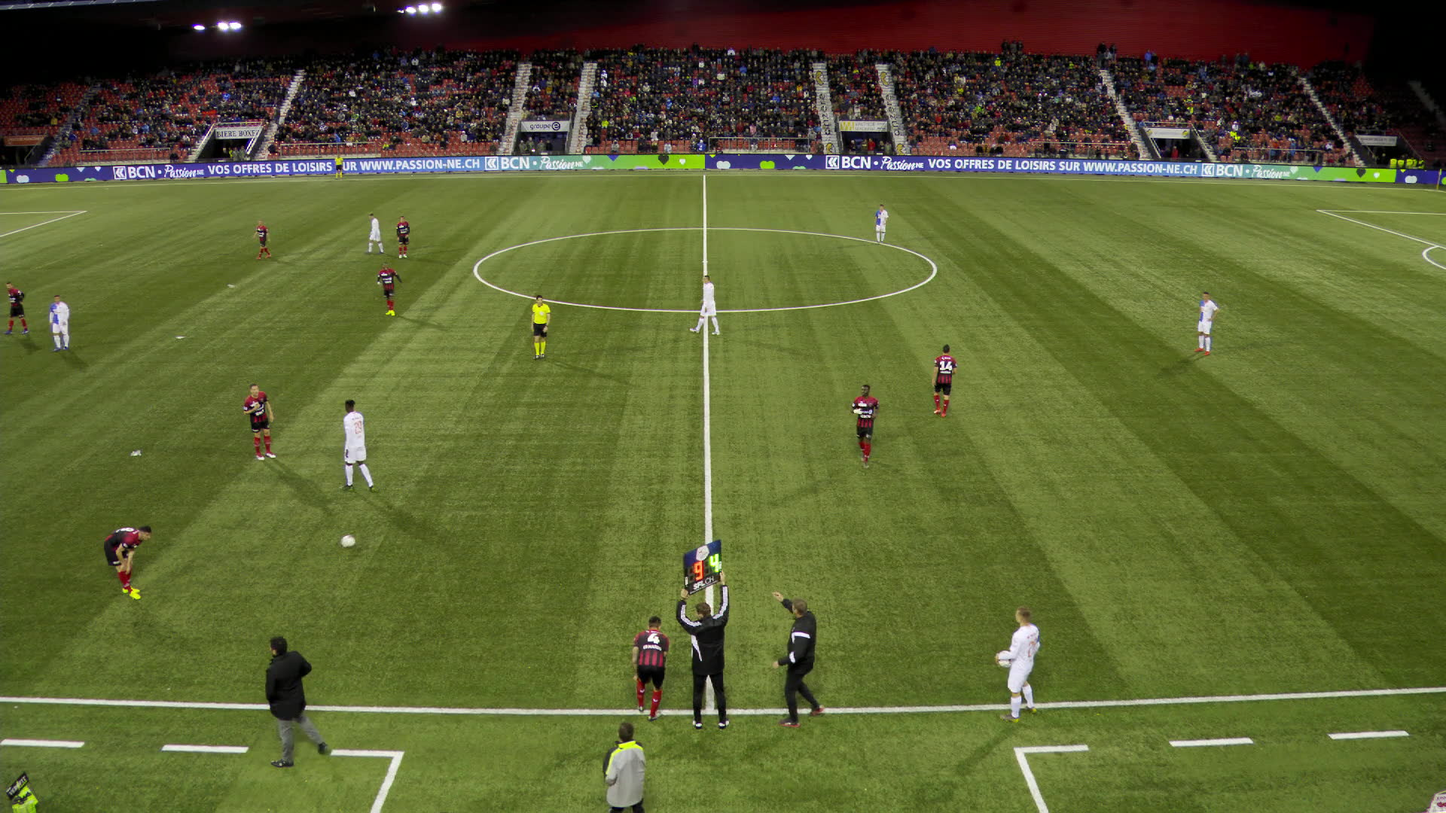ball: (997, 650, 1011, 666), (337, 536, 350, 549)
player: (996, 605, 1039, 723), (103, 525, 151, 599), (340, 398, 374, 492), (243, 384, 276, 461), (851, 385, 878, 466), (930, 346, 957, 419), (1193, 291, 1219, 355), (695, 274, 718, 334), (377, 262, 401, 315), (48, 294, 70, 351), (4, 282, 28, 334), (367, 213, 385, 254), (395, 216, 410, 258), (255, 219, 270, 258), (874, 204, 888, 244)
referee: (529, 295, 549, 360), (334, 154, 343, 179)
